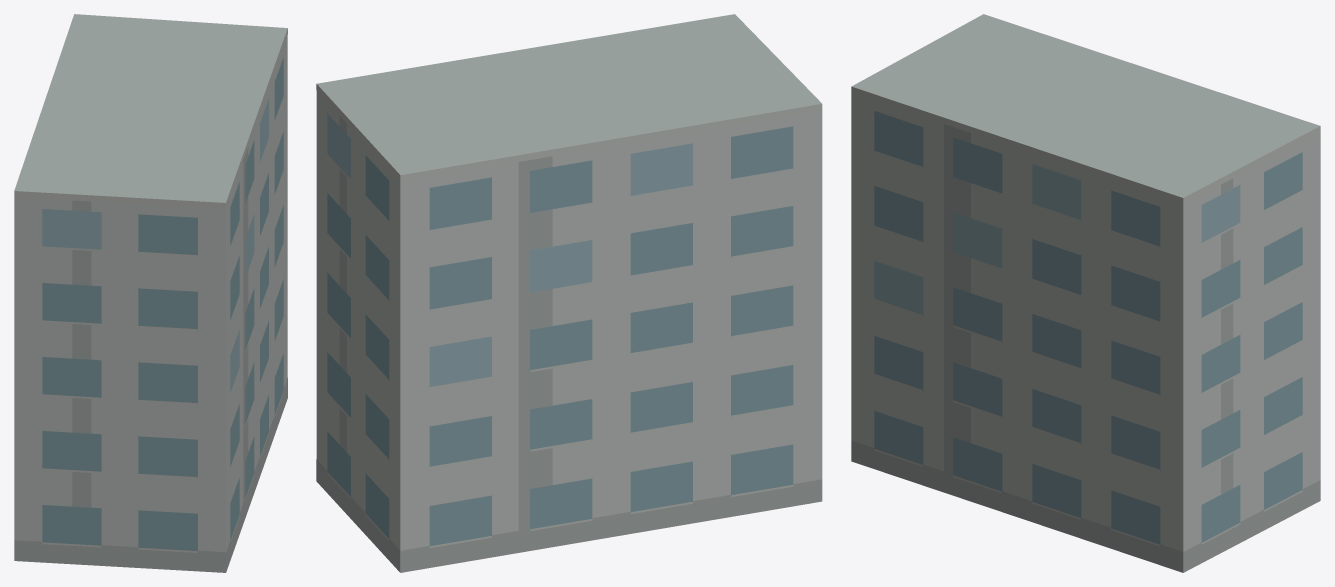
The model's file is survey-upis-32929548.glb.
The picture shows the model from 3 angles, left to right: view 1: azimuth 30°, elevation 25°; view 2: azimuth 150°, elevation 25°; view 3: azimuth 270°, elevation 25°; orthographic projection. The views are drawn at different scales.
Visible parts, largest first — view 1: survey-upis-32929548.tmp; view 2: survey-upis-32929548.tmp; view 3: survey-upis-32929548.tmp.
Boxes of the visible parts, left/top/right/bottom form: survey-upis-32929548.tmp: left=14, top=14, right=287, bottom=572; survey-upis-32929548.tmp: left=316, top=14, right=822, bottom=572; survey-upis-32929548.tmp: left=851, top=14, right=1320, bottom=572.
Size of the model in its own units: 15.17 by 14.4 by 16.34.
